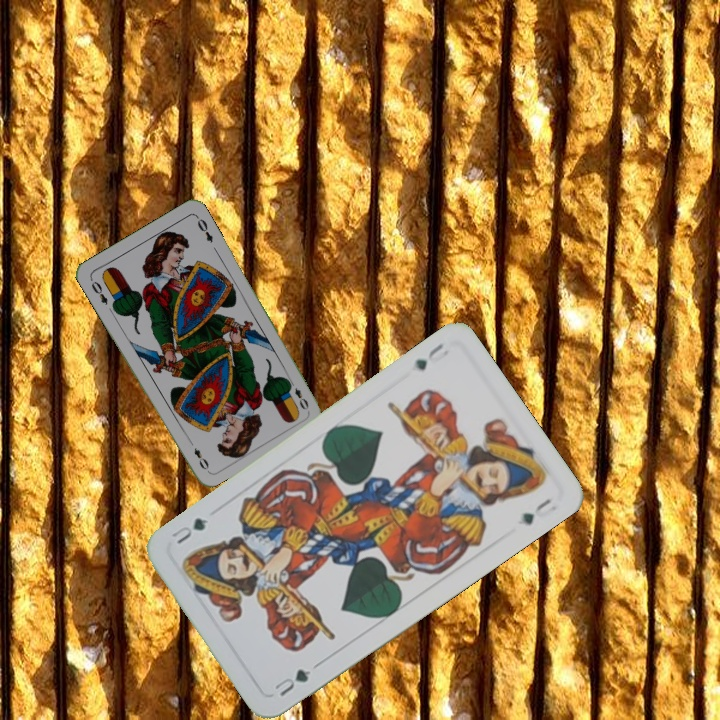EO: (285, 376, 311, 412), (86, 275, 110, 307)
GU: (270, 664, 314, 699), (411, 338, 452, 374)
